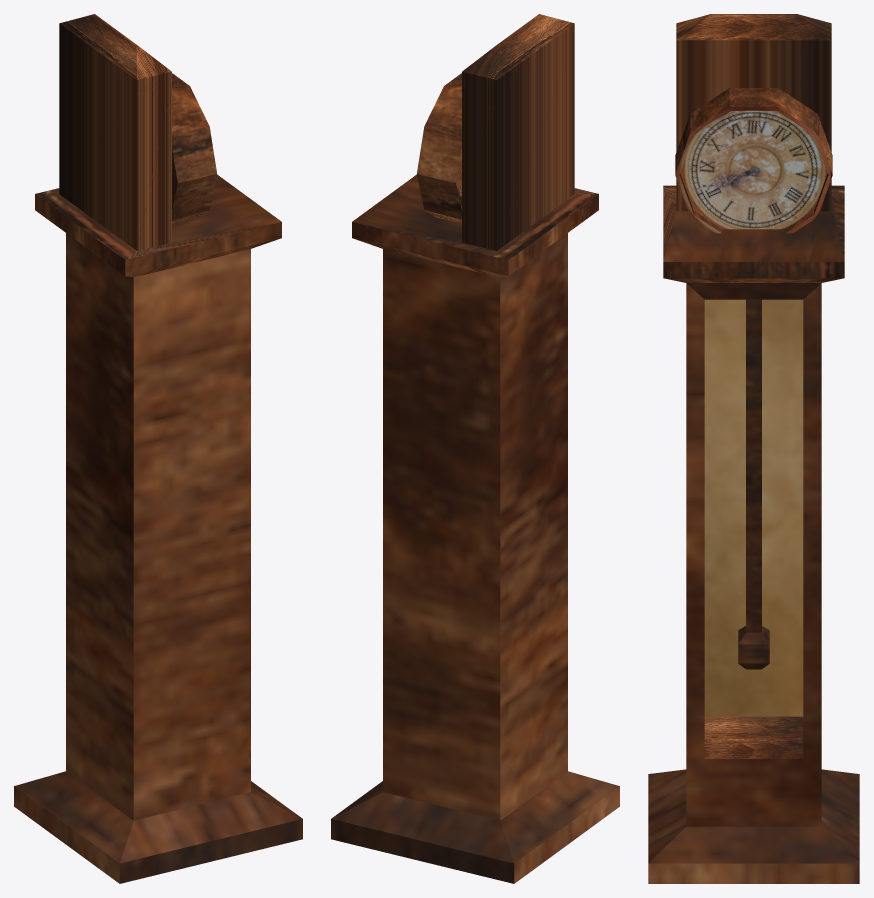
The model's file is relogio.fbx.
The picture shows the model from 3 angles, left to right: view 1: azimuth 30°, elevation 25°; view 2: azimuth 150°, elevation 25°; view 3: azimuth 270°, elevation 25°; orthographic projection.
Parts seen in each view (by area): view 1: relogio; view 2: relogio; view 3: relogio.
Boxes of the visible parts, left/top/right/bottom form: relogio: left=14, top=14, right=302, bottom=883; relogio: left=331, top=14, right=619, bottom=883; relogio: left=648, top=14, right=859, bottom=883.
Size of the model in its own units: 86.09 by 361 by 86.09.
